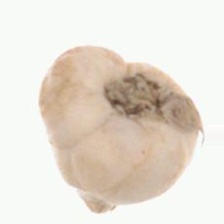L3: (69, 182, 123, 214)
L4: (39, 46, 201, 214)
